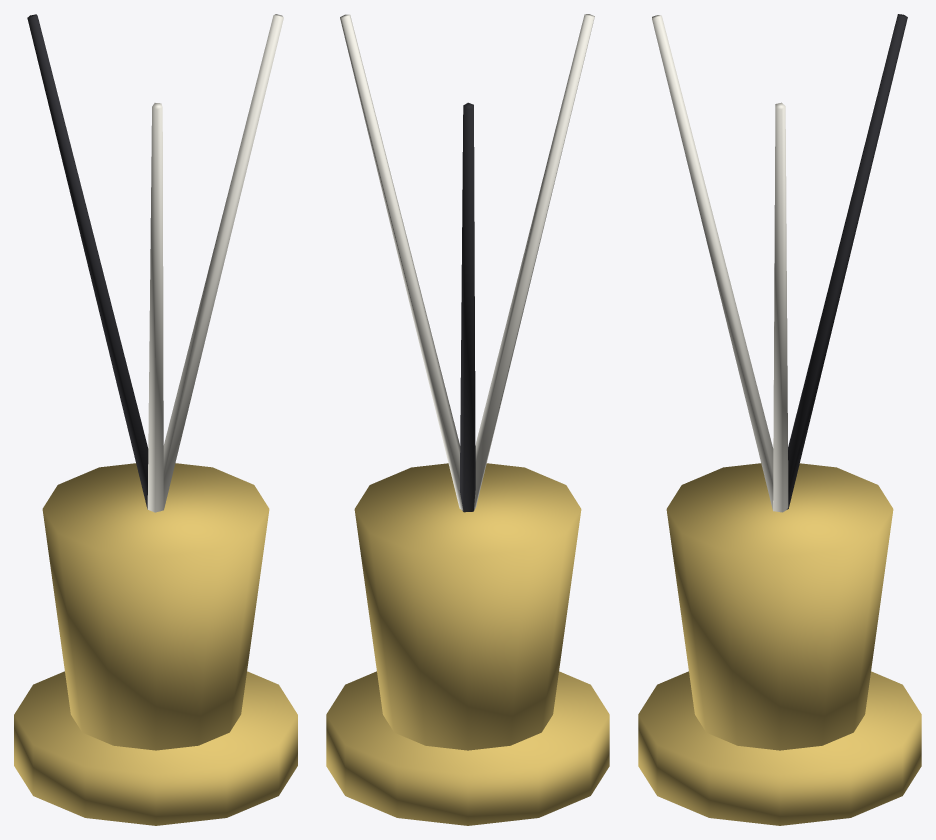
The model's file is writing_set_quill_stand.glb.
3 renders of one model, left to right at view 1: azimuth 30°, elevation 25°; view 2: azimuth 150°, elevation 25°; view 3: azimuth 270°, elevation 25°, orthographic.
Parts seen in each view (by area): view 1: GD_writing_set_quill_stand__m0, GD_writing_set_quill_stand__m1, GD_writing_set_quill_stand__m2; view 2: GD_writing_set_quill_stand__m0, GD_writing_set_quill_stand__m1, GD_writing_set_quill_stand__m2; view 3: GD_writing_set_quill_stand__m0, GD_writing_set_quill_stand__m1, GD_writing_set_quill_stand__m2.
Boxes of the visible parts, bbox=[...] form: GD_writing_set_quill_stand__m0: bbox=[14, 463, 297, 825]; GD_writing_set_quill_stand__m1: bbox=[147, 14, 283, 512]; GD_writing_set_quill_stand__m2: bbox=[27, 14, 148, 509]; GD_writing_set_quill_stand__m0: bbox=[326, 463, 609, 825]; GD_writing_set_quill_stand__m1: bbox=[340, 14, 594, 511]; GD_writing_set_quill_stand__m2: bbox=[459, 102, 475, 512]; GD_writing_set_quill_stand__m0: bbox=[638, 463, 921, 825]; GD_writing_set_quill_stand__m1: bbox=[652, 15, 788, 512]; GD_writing_set_quill_stand__m2: bbox=[787, 14, 907, 509].
Size of the model in its own units: 0.1018 by 0.2805 by 0.1.
